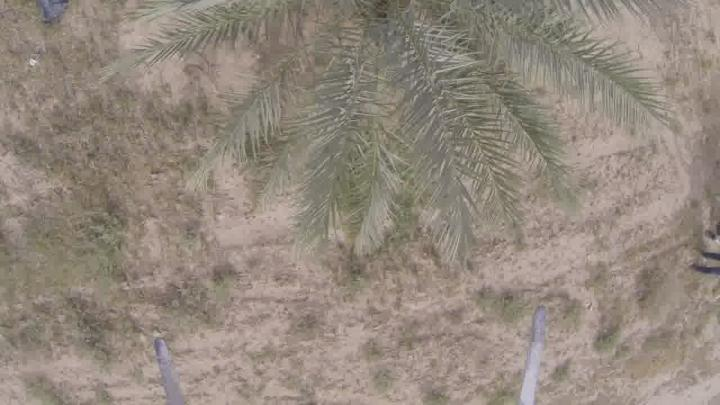Date-Palm-Crown: (261, 0, 523, 152)
